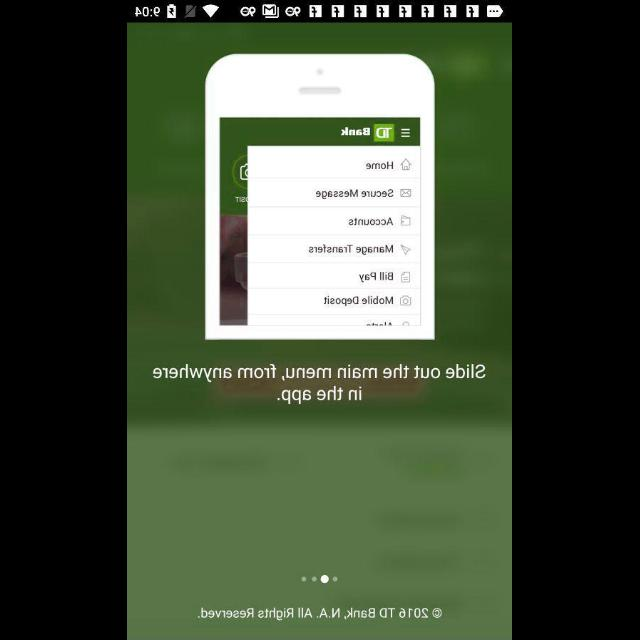image: (206, 54, 436, 340)
pageindicator: (302, 574, 338, 584)
text: (153, 363, 487, 405), (198, 606, 442, 620)
uppertaskbar: (128, 1, 512, 23)
